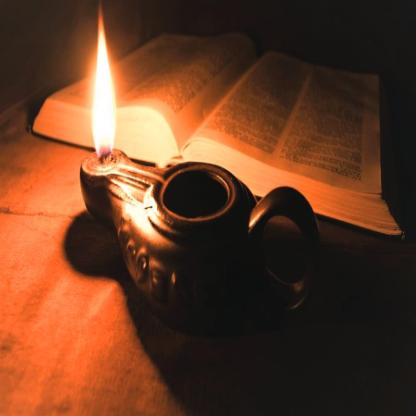fire: (93, 13, 119, 170)
